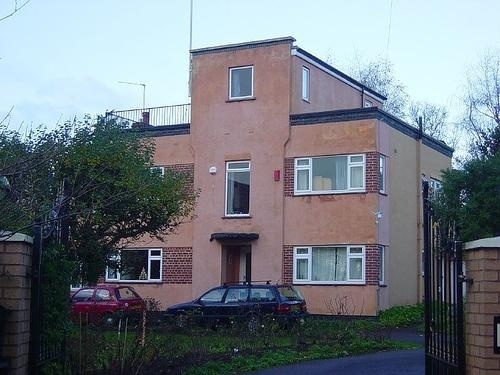car: (164, 280, 309, 338), (67, 282, 147, 328)
